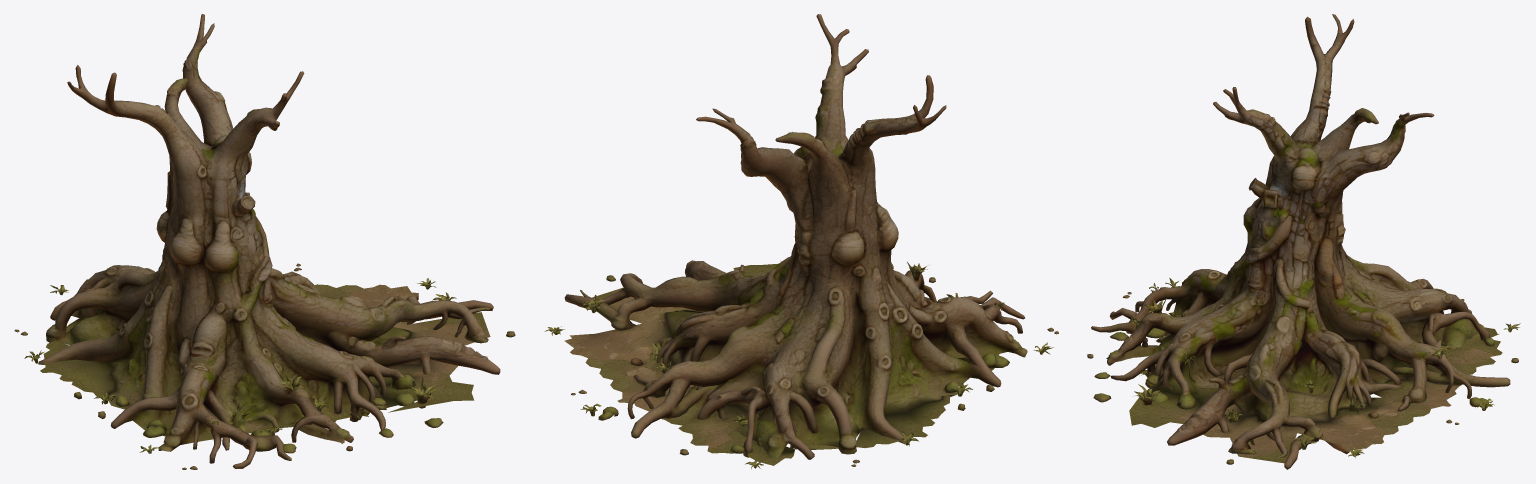
Rendered from jun_giant_surface_roots_a.glb.
3 views of the same model, side by side, from view 1: azimuth 30°, elevation 25°; view 2: azimuth 150°, elevation 25°; view 3: azimuth 270°, elevation 25° (orthographic). The views are drawn at different scales.
Parts seen in each view (by area): view 1: tripo_node_d526340f-c0b6-4e44-b6e3-9aaa0535eabd; view 2: tripo_node_d526340f-c0b6-4e44-b6e3-9aaa0535eabd; view 3: tripo_node_d526340f-c0b6-4e44-b6e3-9aaa0535eabd.
Boxes of the visible parts, x1=… form: tripo_node_d526340f-c0b6-4e44-b6e3-9aaa0535eabd: x1=14, y1=14, x2=515, y2=469; tripo_node_d526340f-c0b6-4e44-b6e3-9aaa0535eabd: x1=544, y1=14, x2=1058, y2=469; tripo_node_d526340f-c0b6-4e44-b6e3-9aaa0535eabd: x1=1087, y1=14, x2=1520, y2=469.
Bounding box in the file's own units: 0.998 × 0.752 × 0.9941.
Materials: 1 (1 with a texture image).
